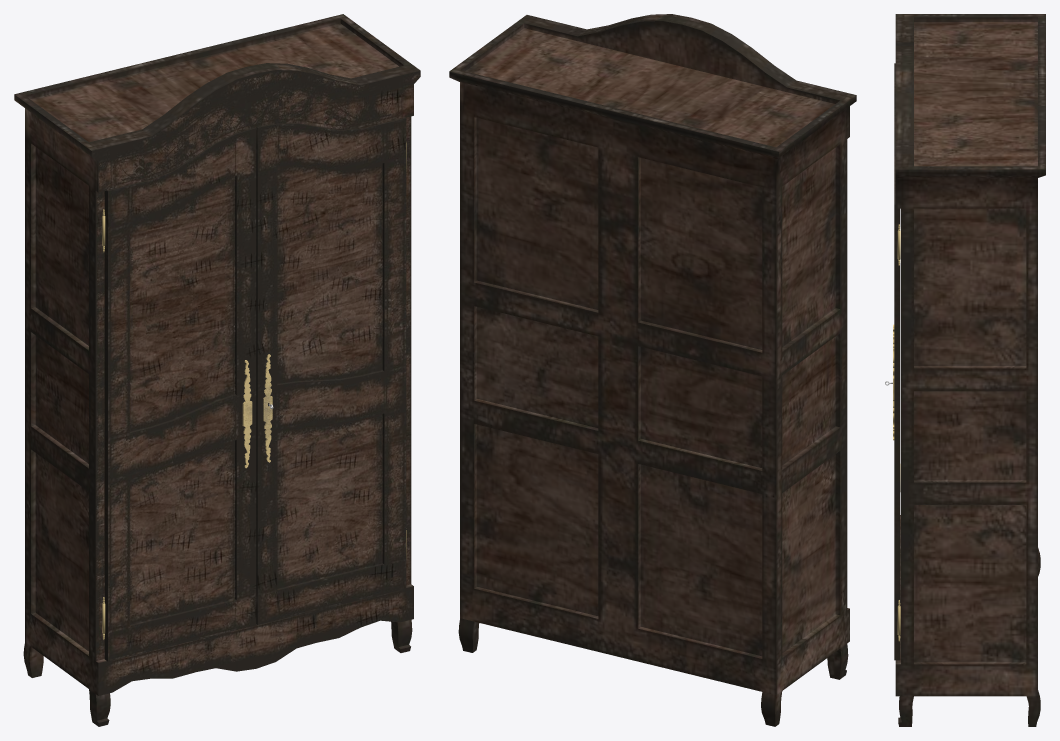
3 views of the same model, side by side, from view 1: azimuth 30°, elevation 25°; view 2: azimuth 150°, elevation 25°; view 3: azimuth 270°, elevation 25° (orthographic). The views are drawn at different scales.
Parts seen in each view (by area): view 1: Object_3, Object_4; view 2: Object_3; view 3: Object_3, Object_2.
Part boxes in pixels (x1=…): Object_3: x1=14, y1=14, x2=420, y2=726; Object_4: x1=242, y1=354, x2=273, y2=468; Object_3: x1=449, y1=14, x2=856, y2=726; Object_3: x1=894, y1=14, x2=1045, y2=726; Object_2: x1=897, y1=224, x2=900, y2=641.
Size of the model in its own units: 1.29 by 2.31 by 0.564.
3 materials, 3 textured.
